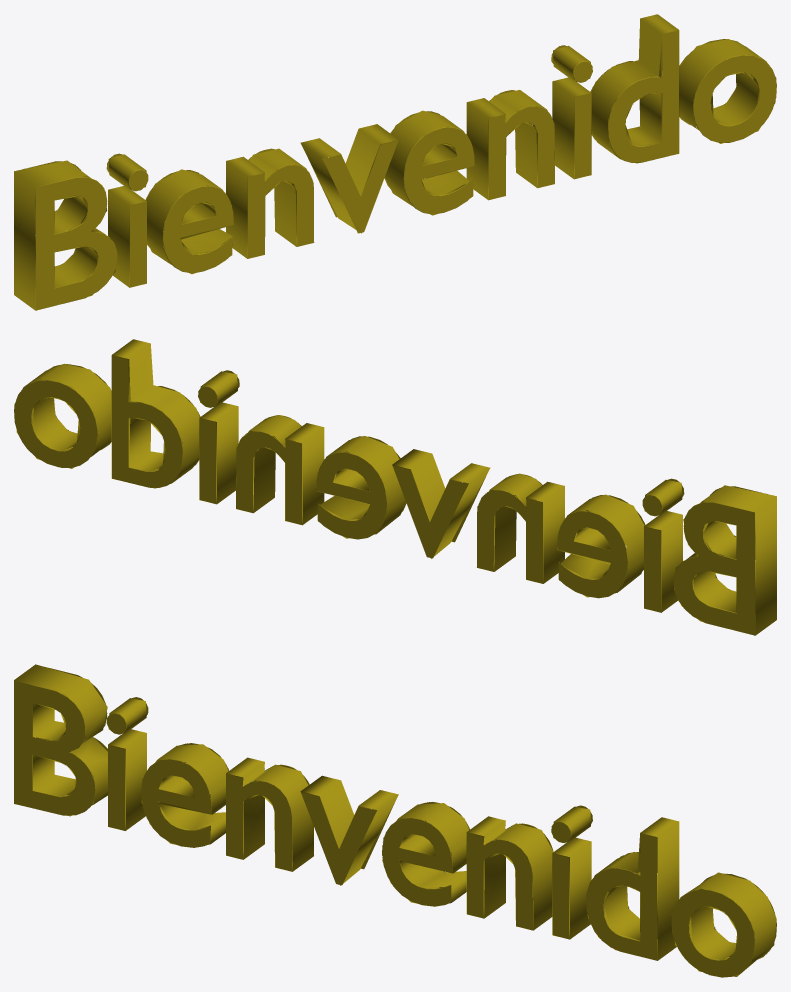
File: LetrasMissionInicio.obj
The picture shows the model from 3 angles, top to bottom: view 1: azimuth 30°, elevation 25°; view 2: azimuth 150°, elevation 25°; view 3: azimuth 330°, elevation 25°; orthographic projection.
Parts seen in each view (by area): view 1: Text_Text.002; view 2: Text_Text.002; view 3: Text_Text.002.
Boxes of the visible parts, left/top/right/bottom form: Text_Text.002: left=14, top=14, right=776, bottom=310; Text_Text.002: left=14, top=339, right=776, bottom=635; Text_Text.002: left=14, top=664, right=776, bottom=977.
Bounding box in the file's own units: 4.36 × 0.7112 × 0.2281.
